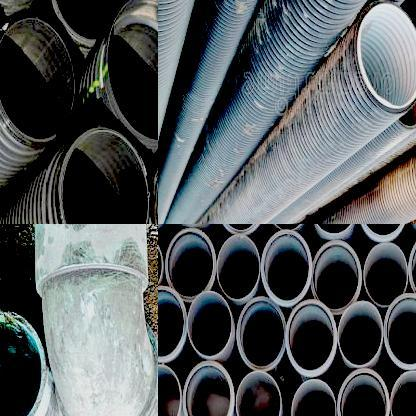pipe: (0, 17, 76, 141), (61, 129, 149, 224), (104, 0, 158, 142), (355, 0, 416, 113), (0, 310, 46, 416), (286, 300, 337, 375), (261, 231, 312, 305), (165, 228, 216, 301), (312, 240, 362, 314), (47, 0, 131, 44), (237, 297, 285, 368), (186, 291, 233, 358), (338, 301, 383, 366), (218, 233, 260, 302), (364, 243, 408, 307), (183, 361, 234, 416), (336, 368, 389, 416), (384, 293, 416, 368), (158, 286, 187, 360), (235, 370, 281, 416), (291, 378, 336, 416), (158, 364, 181, 416), (391, 369, 416, 416)
